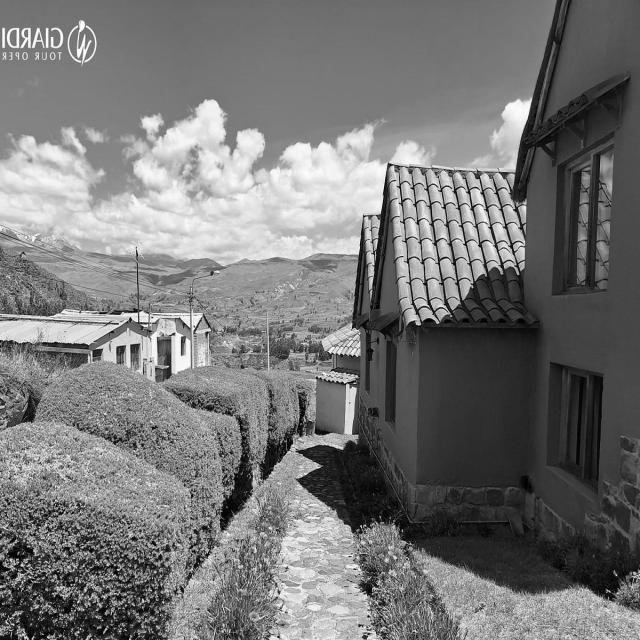Fachada: (354, 0, 640, 558), (1, 309, 155, 379), (141, 311, 192, 380), (193, 314, 212, 366)
